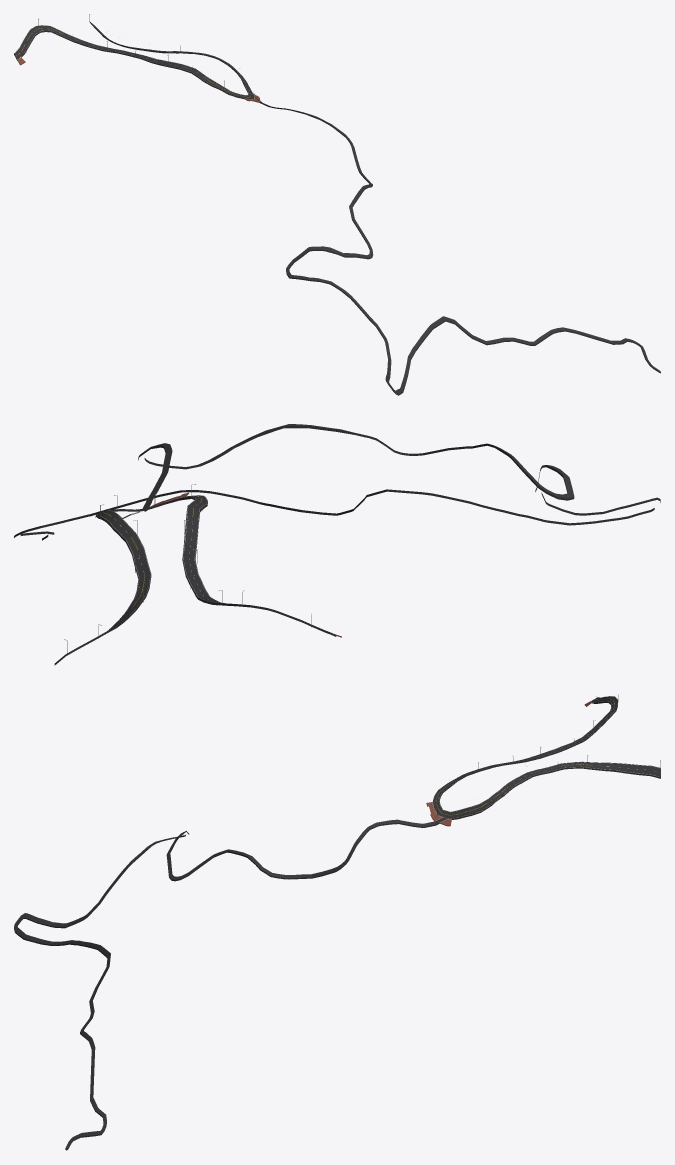
3 views of the same model, one above another, from view 1: azimuth 30°, elevation 25°; view 2: azimuth 150°, elevation 25°; view 3: azimuth 270°, elevation 25° (orthographic). The views are drawn at different scales.
Bounding box in the file's own units: 432 × 263 × 574.
